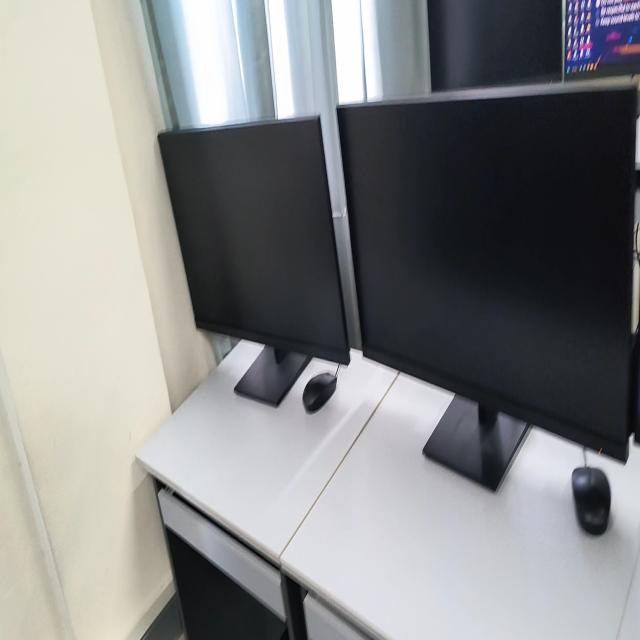Monitor: (338, 86, 637, 491), (158, 116, 350, 407), (427, 0, 562, 91), (564, 0, 640, 79)
Mouse: (571, 449, 611, 535), (303, 372, 337, 413)
